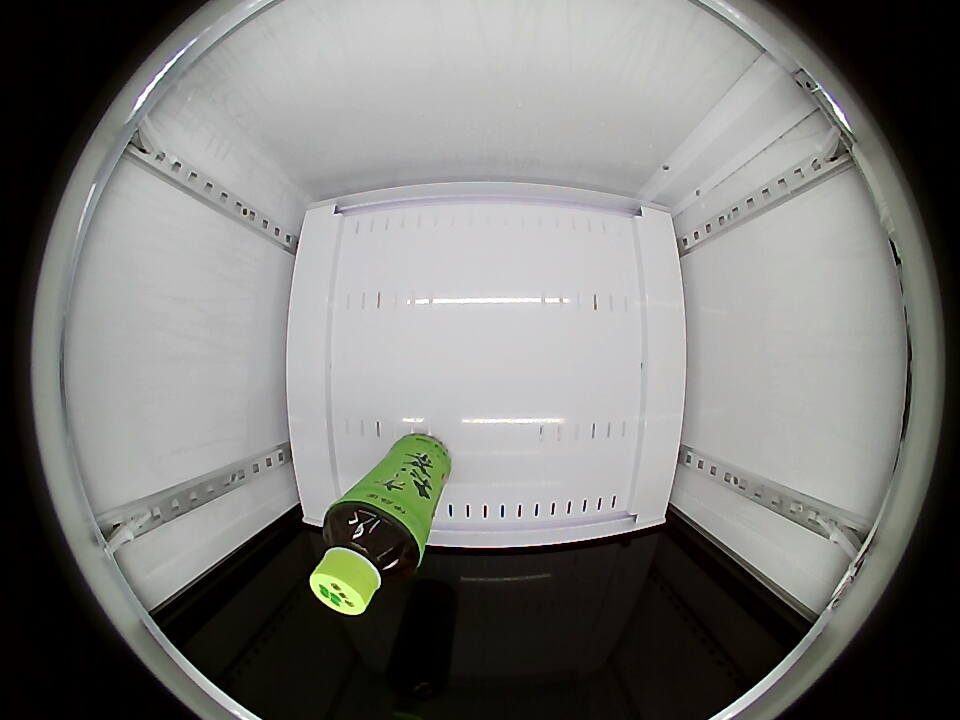yitengyuan: (310, 497, 424, 615)
